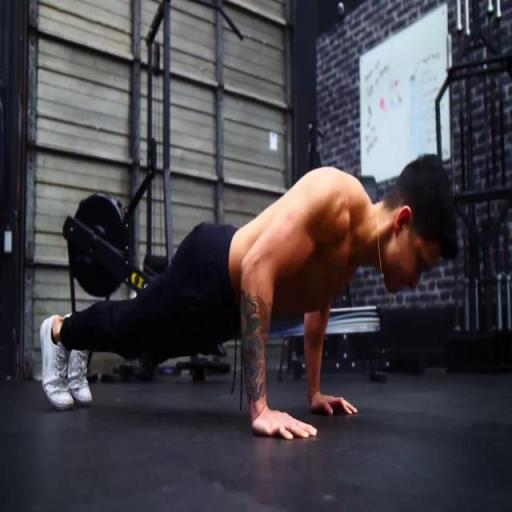Normal_BrenchPress: (42, 154, 462, 442)
